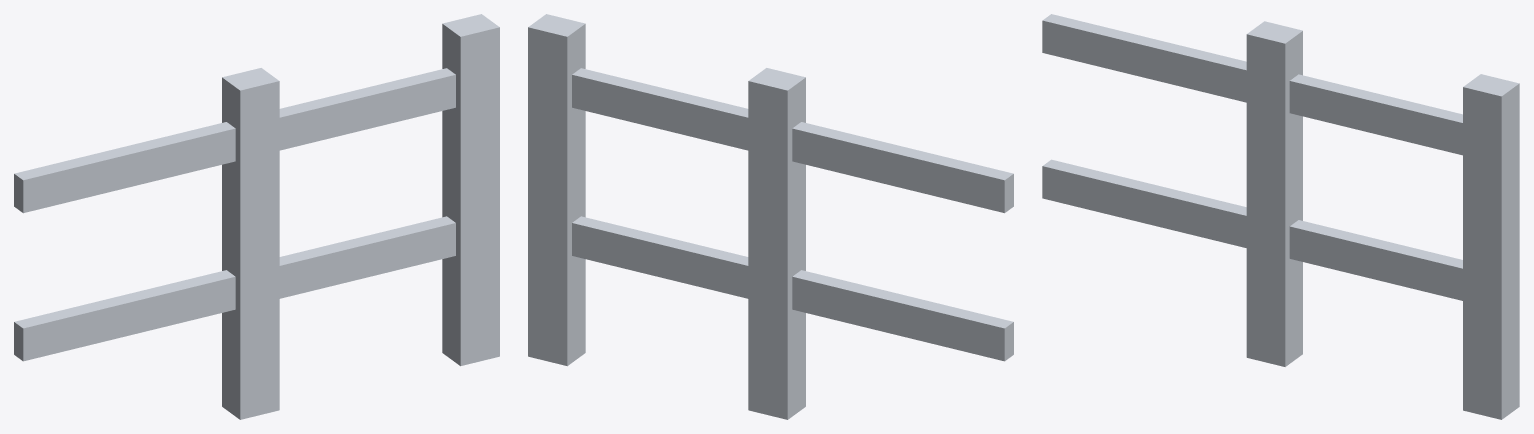
File: fence.obj
3 views of the same model, side by side, from view 1: azimuth 30°, elevation 25°; view 2: azimuth 150°, elevation 25°; view 3: azimuth 330°, elevation 25° (orthographic).
Size of the model in its own units: 6 by 4 by 0.4.
1 material, 1 textured.
